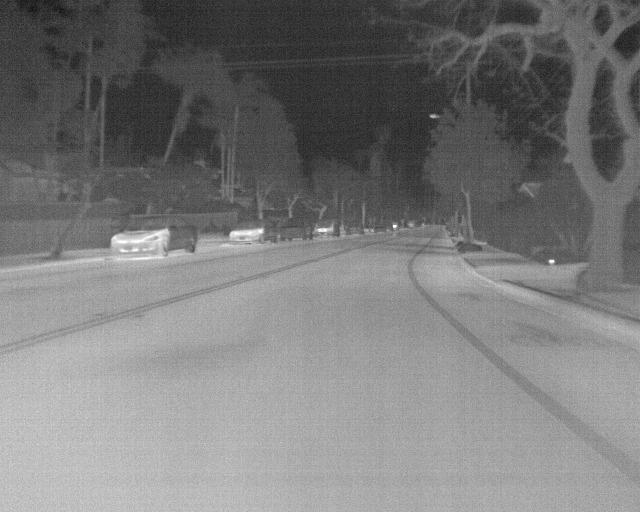car: (109, 217, 196, 260), (227, 220, 277, 244), (278, 218, 314, 242), (316, 219, 342, 238), (373, 218, 393, 236), (348, 221, 363, 235)
